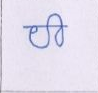i_matra: (49, 12, 65, 46)
